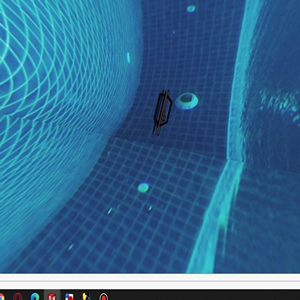submarine: (153, 88, 171, 135)
